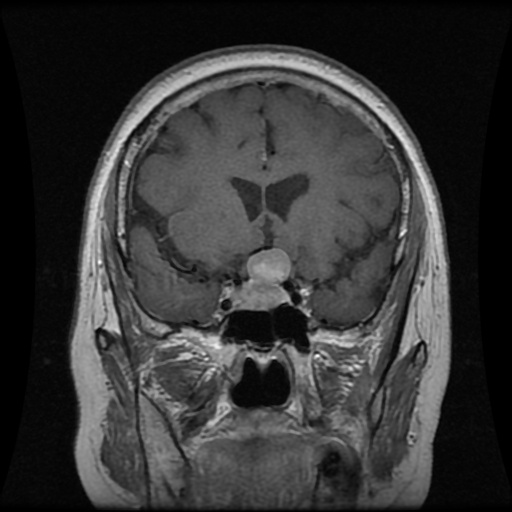pituitary: (234, 248, 290, 307)
